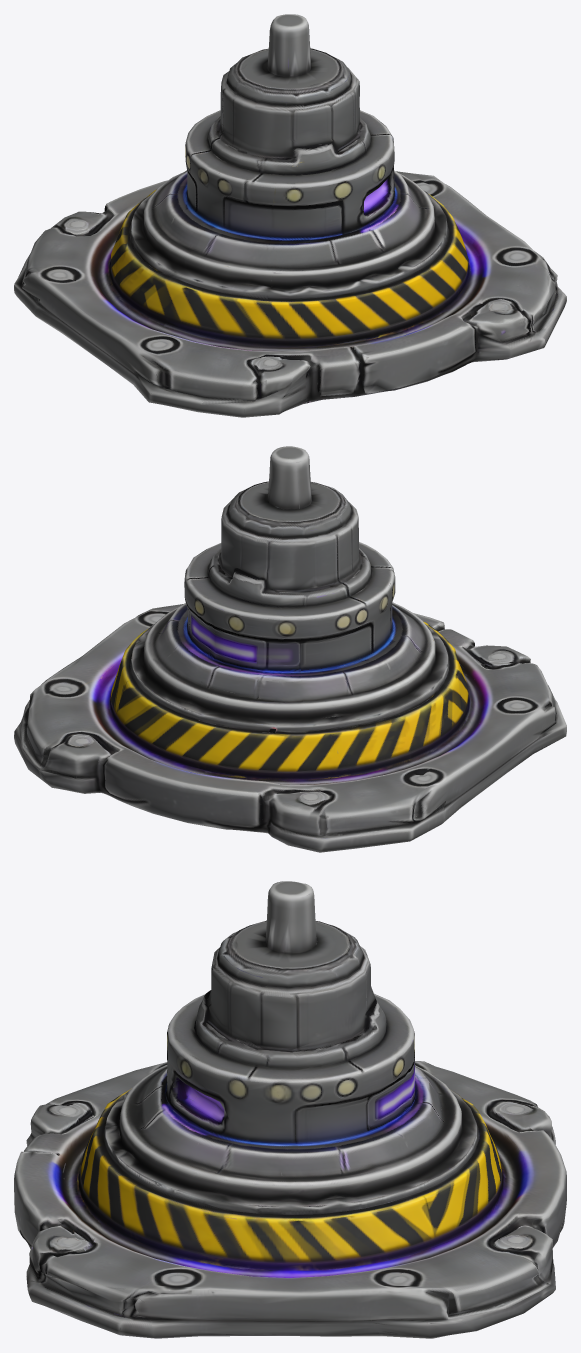
The model's file is Meshy_AI_rotator_base_0108124758_texture.fbx.
3 renders of one model, top to bottom at view 1: azimuth 30°, elevation 25°; view 2: azimuth 150°, elevation 25°; view 3: azimuth 270°, elevation 25°, orthographic. The views are drawn at different scales.
Parts seen in each view (by area): view 1: Mesh0; view 2: Mesh0; view 3: Mesh0.
Part boxes in pixels (left/top/right/bottom): Mesh0: left=14, top=14, right=566, bottom=417; Mesh0: left=14, top=446, right=566, bottom=852; Mesh0: left=14, top=881, right=566, bottom=1338.
Size of the model in its own units: 191 by 129 by 187.
Materials: 1 (1 with a texture image).
